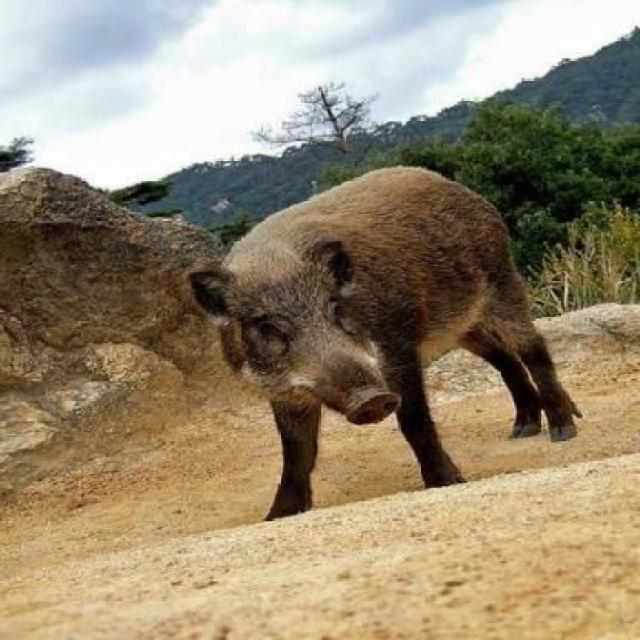pig: (177, 123, 588, 532)
